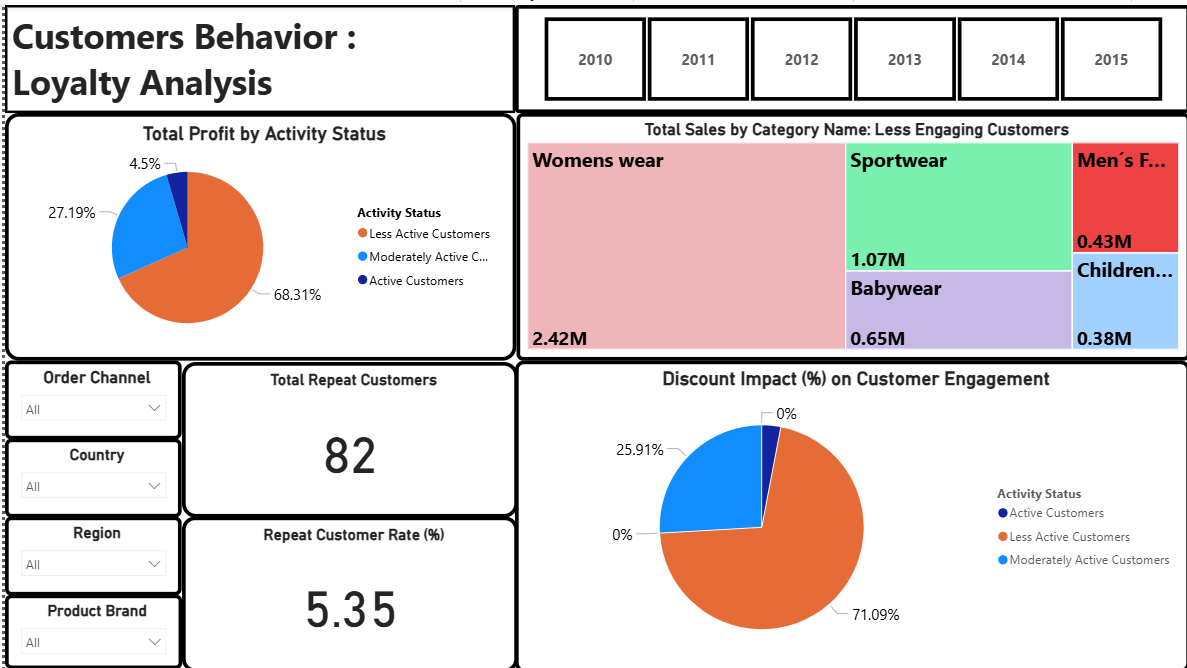

The dashboard page shown, as its layout file describes it:
{"tool":"powerbi","page":{"name":"Loyal Customers Behavioral Patterns","canvas":[1280,720],"ordinal":1},"visuals":[{"type":"textbox","box":[0,0,446.9,116.6],"z":0},{"type":"pieChart","title":"Total Profit by Activity Status","fields":{"Category":["Loyal_Cusotmers_DB.Activity Status"],"Y":["OrderDetails (2).Total_Profit"]},"box":[0,116.6,552.2,267.2],"z":1000},{"type":"slicer","fields":{"Values":["OrdersHeader (2).Order_Date.Variation.Date Hierarchy.Year"]},"box":[445.3,0,833.9,116.6],"z":2000},{"type":"treemap","title":"Total Sales by Category Name: Less Engaging Customers","fields":{"Group":["Categories.CategoryName","Loyal_Cusotmers_DB.Activity Status"],"Values":["Sum(OrderDetails (2).Total_Sales)"]},"box":[552.2,116.6,727,267.2],"z":3000},{"type":"slicer","title":"Region","fields":{"Values":["Customers.City_Original"]},"box":[0,551.8,190.9,85],"z":4000},{"type":"slicer","title":"Country","fields":{"Values":["Customers.Country_Original"]},"box":[0,468.7,190.9,85],"z":5000},{"type":"card","title":"Repeat Customer Rate (%)","fields":{"Values":["Categories.Repeat Customer Rate (%)"]},"box":[190.9,551.8,362.8,168.2],"z":6000},{"type":"pieChart","title":"Discount Impact (%)  on Customer Engagement ","fields":{"Y":["Categories.Discount Impact (%)","Sum(OrderDetails (2).Total_Sales)"],"Category":["Loyal_Cusotmers_DB.Activity Status"]},"box":[550.5,383.8,728.7,336.8],"z":7000},{"type":"card","title":"Total Repeat Customers","fields":{"Values":["CountNonNull(Loyal_Cusotmers_DB.Customer_ID)"]},"box":[190.9,385.5,362.8,168.2],"z":8000},{"type":"slicer","title":"Order Channel","fields":{"Values":["SUPPLIER.SUPPLIERCOUNTRY"]},"box":[0,383.6,190.9,85],"z":9000},{"type":"slicer","title":"Product Brand","fields":{"Values":["Products.ProductName"]},"box":[0,636.4,191.1,81],"z":10000}]}

Visuals, with their boxes in screenshot pixels (x1, y1, x2, y2), scaled from the page's 1280x720 canvas onto the 1187x668 screenshot:
textbox: [0,0,414,108]
"Total Profit by Activity Status" pieChart: [0,108,512,356]
slicer - OrdersHeader (2).Order_Date.Variation.Date Hierarchy.Year: [413,0,1186,108]
"Total Sales by Category Name: Less Engaging Customers" treemap: [512,108,1186,356]
"Region" slicer: [0,512,177,591]
"Country" slicer: [0,435,177,514]
"Repeat Customer Rate (%)" card: [177,512,513,667]
"Discount Impact (%)  on Customer Engagement " pieChart: [511,356,1186,667]
"Total Repeat Customers" card: [177,358,513,514]
"Order Channel" slicer: [0,356,177,435]
"Product Brand" slicer: [0,590,177,666]
